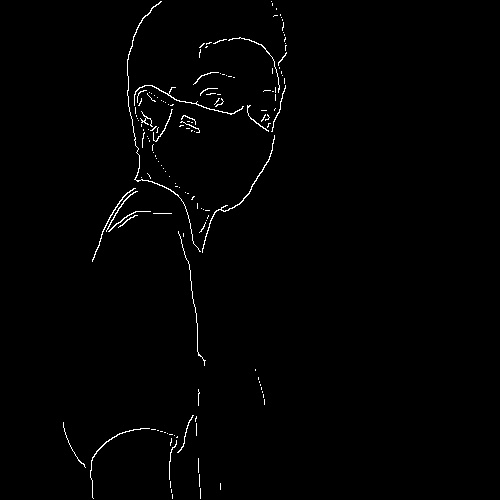mask: (159, 100, 261, 210)
